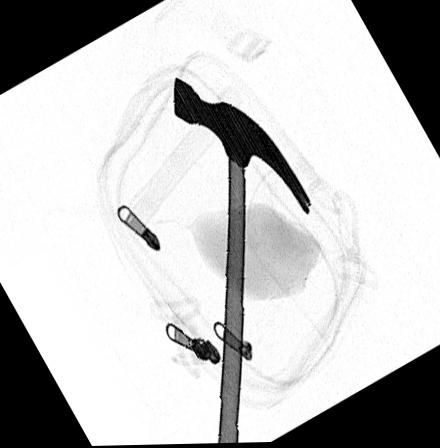Hammer: (172, 76, 313, 444)
